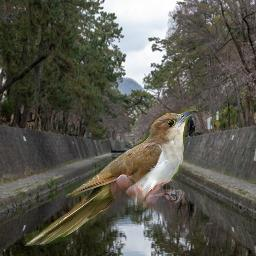Cuckoo: (24, 107, 199, 246)
